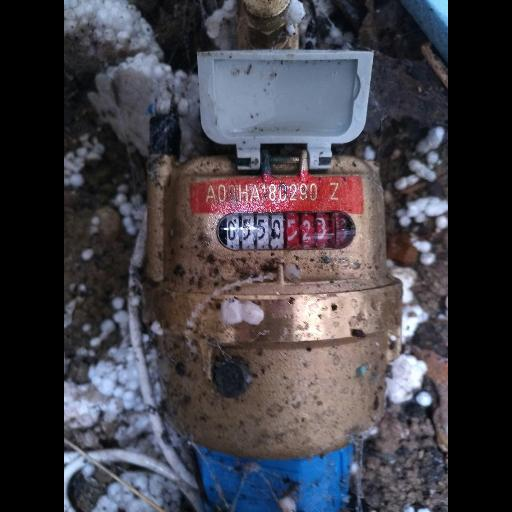0: (269, 215, 285, 249), (227, 217, 240, 248)
2: (300, 215, 315, 249)
3: (315, 215, 329, 249)
5: (240, 215, 255, 249), (255, 215, 270, 249), (285, 215, 300, 249)
border_water_meter_number: (216, 211, 356, 252)
